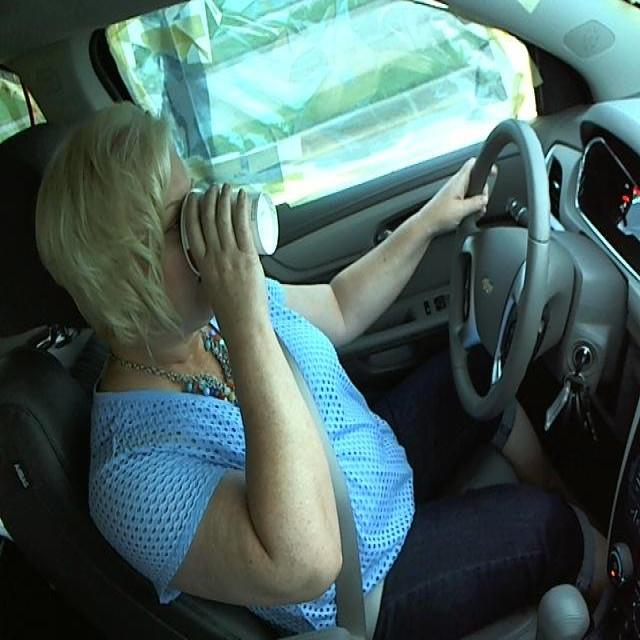Seatbelt: (182, 192, 284, 260)
